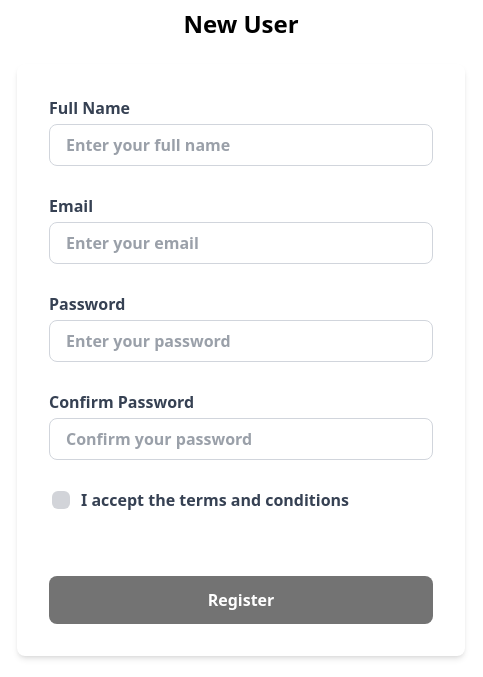
2. form validation › 2.1. should show error message when full name is empty
The width and height of the screenshot is (483, 677).
Expected: the text "full name is required" is not shown
Clear the field labelled "Full Name" at (241, 145), box [49,124,433,166]
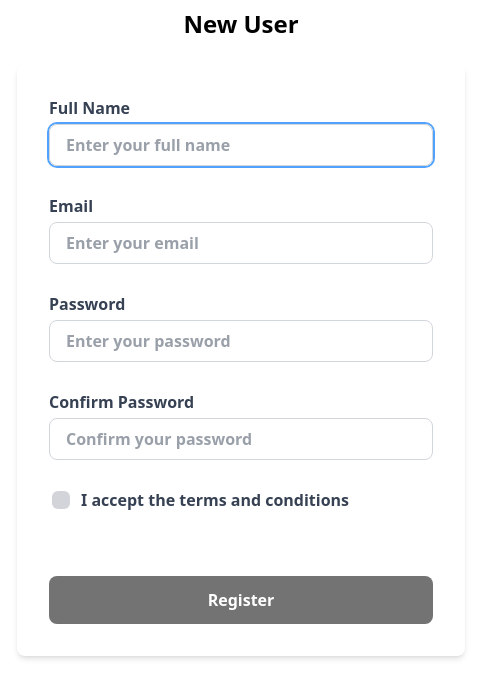
Click the field labelled "Email" at (241, 243), box [49,222,433,264]
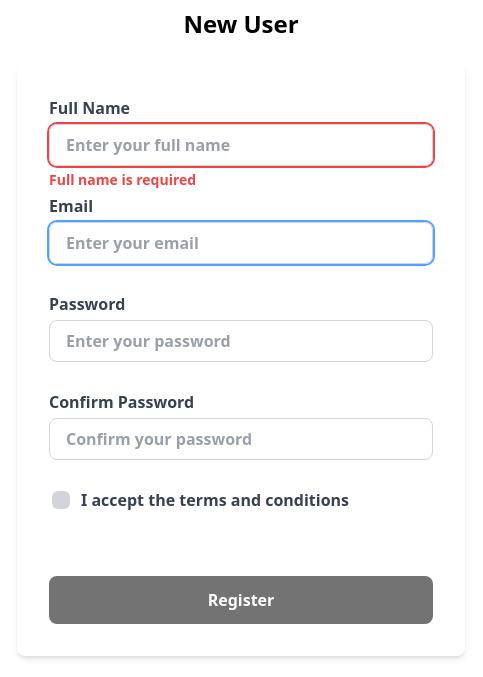
Now the text "Full name is required" is shown, box [49,170,196,190]
